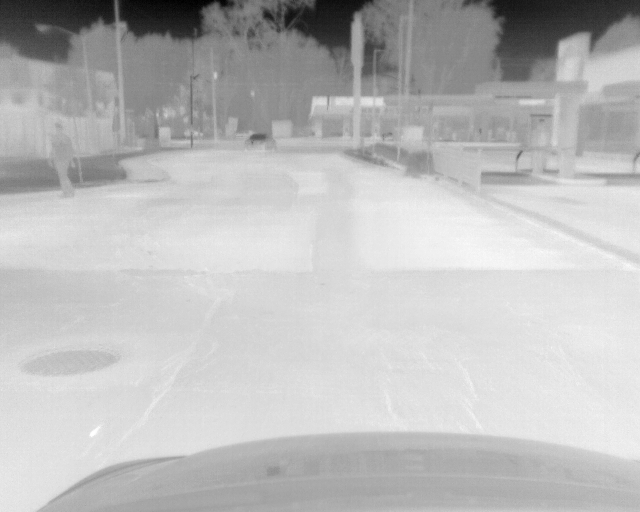car: (242, 133, 278, 153)
people: (46, 121, 79, 200)
